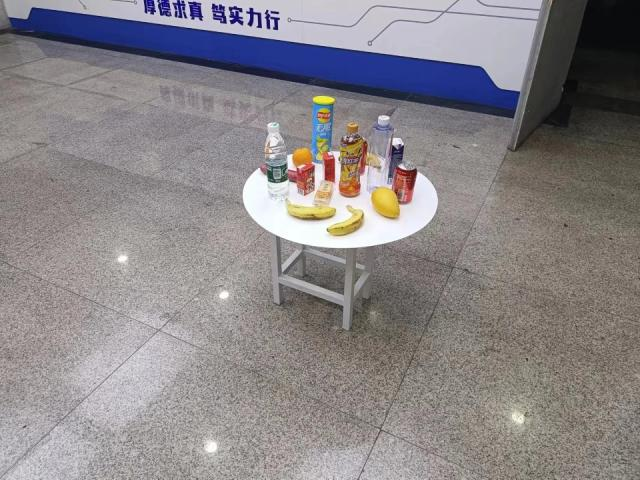Canned_drinks: (391, 160, 418, 204)
bottle: (264, 122, 291, 201), (368, 115, 392, 193)
cylinder: (311, 95, 335, 165)
drink_box: (386, 138, 404, 184), (296, 162, 316, 196), (322, 151, 336, 183)
